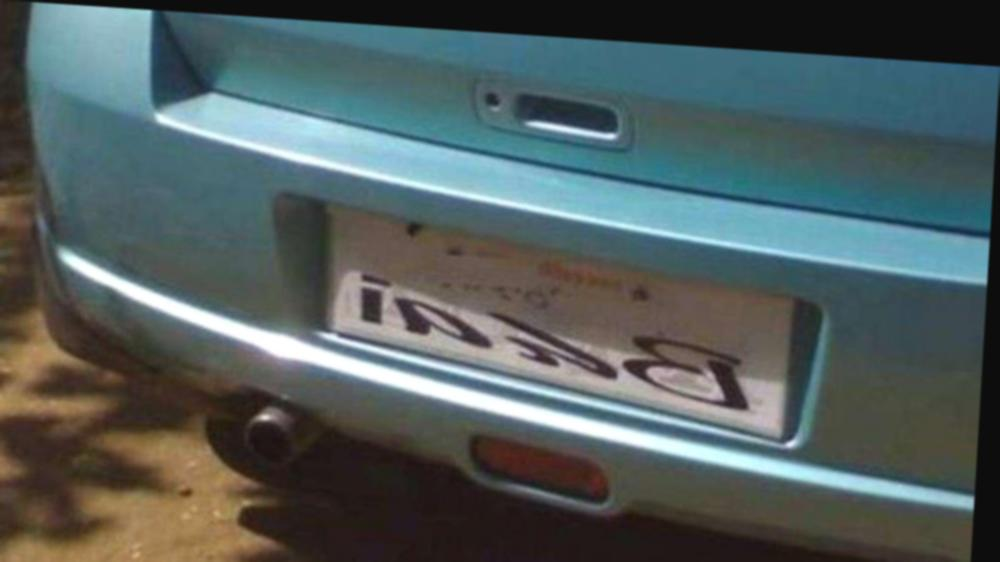License_Plate: (301, 190, 811, 444)
